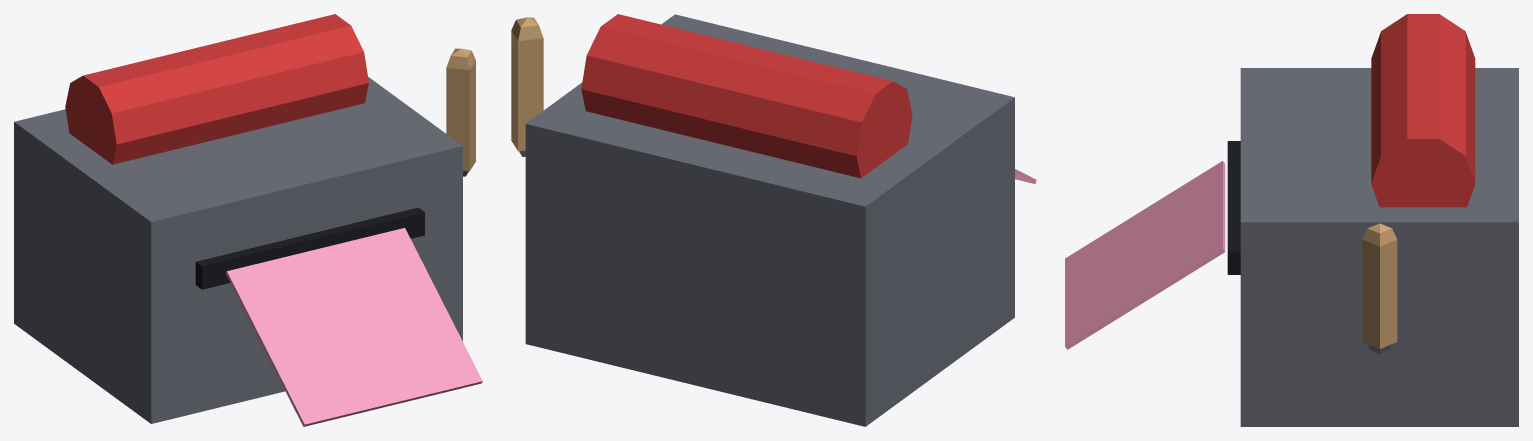
The model's file is fair_ticket_printer.glb.
3 renders of one model, left to right at view 1: azimuth 30°, elevation 25°; view 2: azimuth 150°, elevation 25°; view 3: azimuth 270°, elevation 25°, orthographic. The views are drawn at different scales.
Visible parts, largest first — view 1: body_printer_grey, ribbon_ticket_pink, roller_fair_red, mouth_ghost_dark, crank_fair_wood; view 2: body_printer_grey, roller_fair_red, crank_fair_wood; view 3: body_printer_grey, roller_fair_red, ribbon_ticket_pink, crank_fair_wood, mouth_ghost_dark.
Part boxes in pixels (bbox=[...]): body_printer_grey: bbox=[14, 77, 462, 423]; ribbon_ticket_pink: bbox=[226, 228, 482, 426]; roller_fair_red: bbox=[65, 14, 368, 164]; mouth_ghost_dark: bbox=[195, 207, 424, 289]; crank_fair_wood: bbox=[446, 48, 475, 171]; body_printer_grey: bbox=[525, 14, 1014, 426]; roller_fair_red: bbox=[581, 14, 912, 178]; crank_fair_wood: bbox=[511, 17, 543, 151]; body_printer_grey: bbox=[1240, 68, 1518, 426]; roller_fair_red: bbox=[1371, 14, 1475, 207]; ribbon_ticket_pink: bbox=[1065, 161, 1225, 349]; crank_fair_wood: bbox=[1362, 223, 1397, 348]; mouth_ghost_dark: bbox=[1227, 141, 1240, 274].
Bounding box in the file's own units: 0.53 × 0.3471 × 0.5222.
